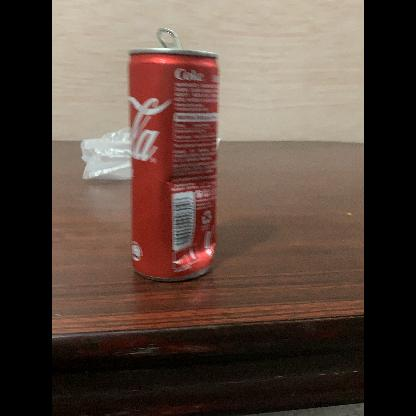Dent_Can: (158, 165, 216, 199), (170, 233, 216, 274)
Lid_Open: (154, 24, 190, 56)
Tin_Can: (122, 26, 226, 286)
